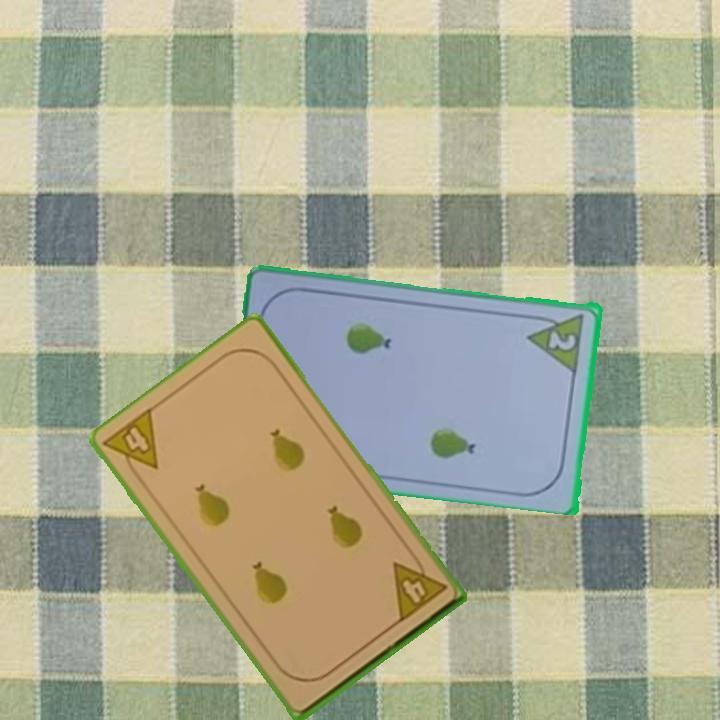2p: (545, 326, 579, 353)
4p: (99, 404, 161, 487), (388, 548, 450, 625)
